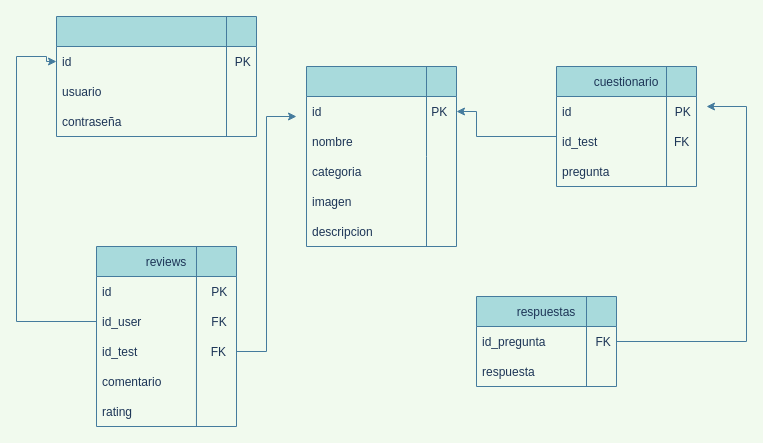
Image size: 763x443. Some labels were removed from this diagram. The shapes that lost their labels are listed below. From the top down, each one's box as (x1, y1, x2, y2) in pixels, then its label:
(56, 16, 256, 136): users
(306, 66, 456, 246): test
